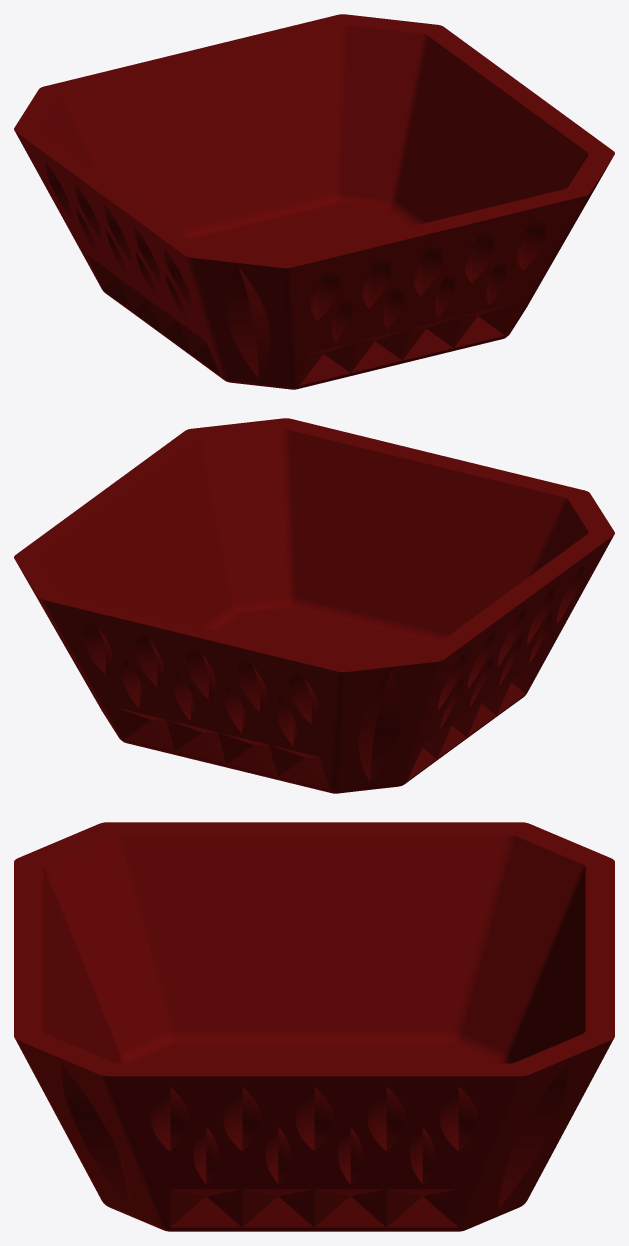
3 renders of one model, top to bottom at view 1: azimuth 30°, elevation 25°; view 2: azimuth 150°, elevation 25°; view 3: azimuth 270°, elevation 25°, orthographic. The views are drawn at different scales.
Size of the model in its own units: 0.0774 by 0.028 by 0.0774.
